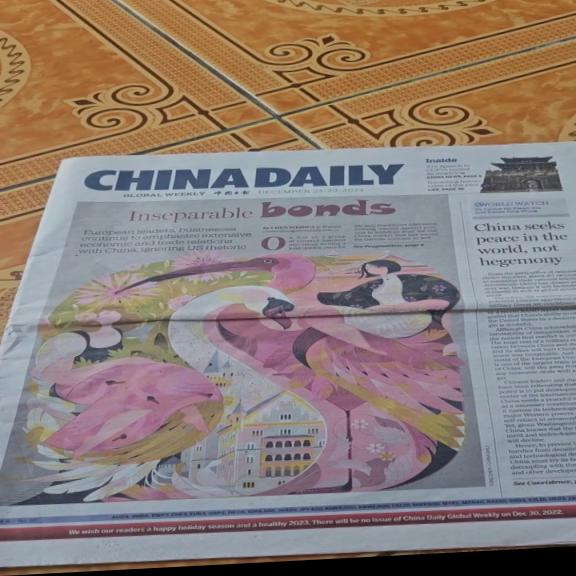Kertas: (6, 131, 568, 566)
